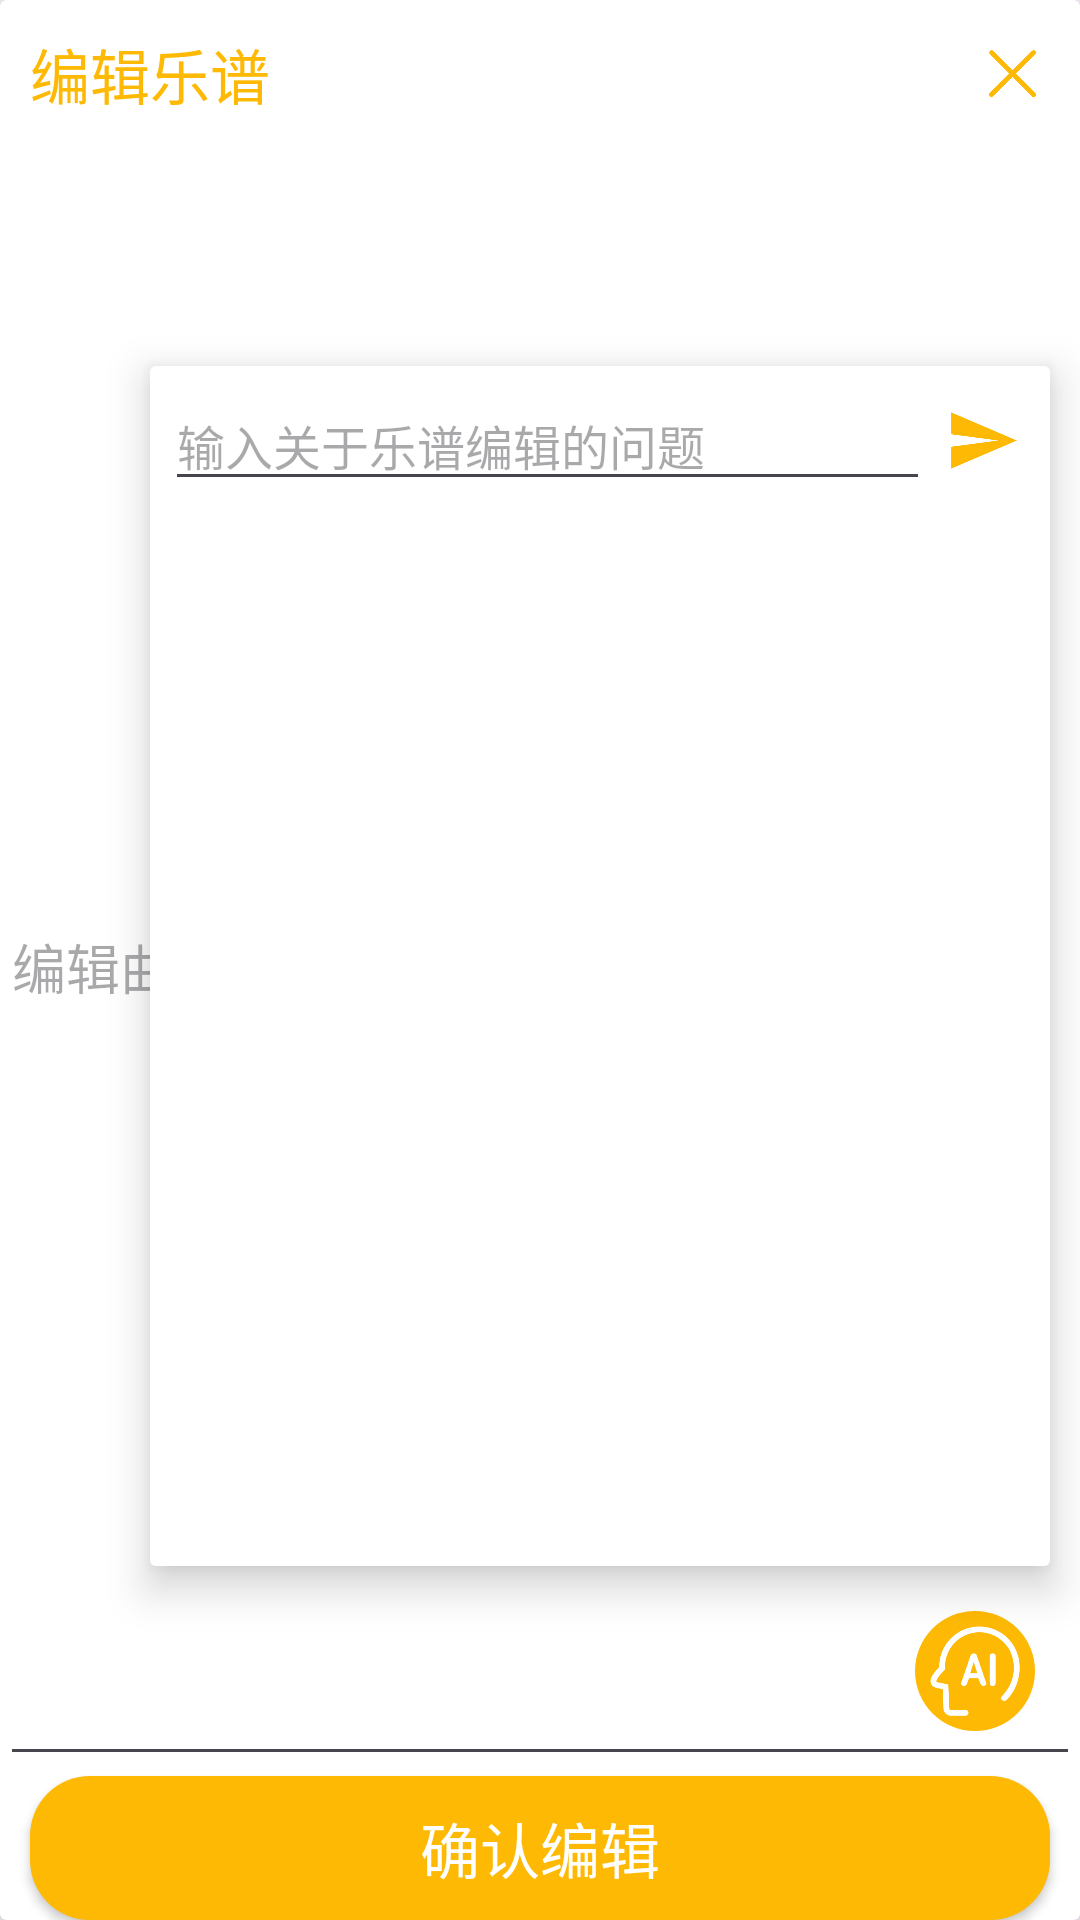

Named icons in this screenshot (1080*1920) and their bounding boxes, [left=x1, top=y1, right=x2, bottom=y2]:
close: [left=989, top=50, right=1036, bottom=97]
send: [left=951, top=412, right=1017, bottom=469]
